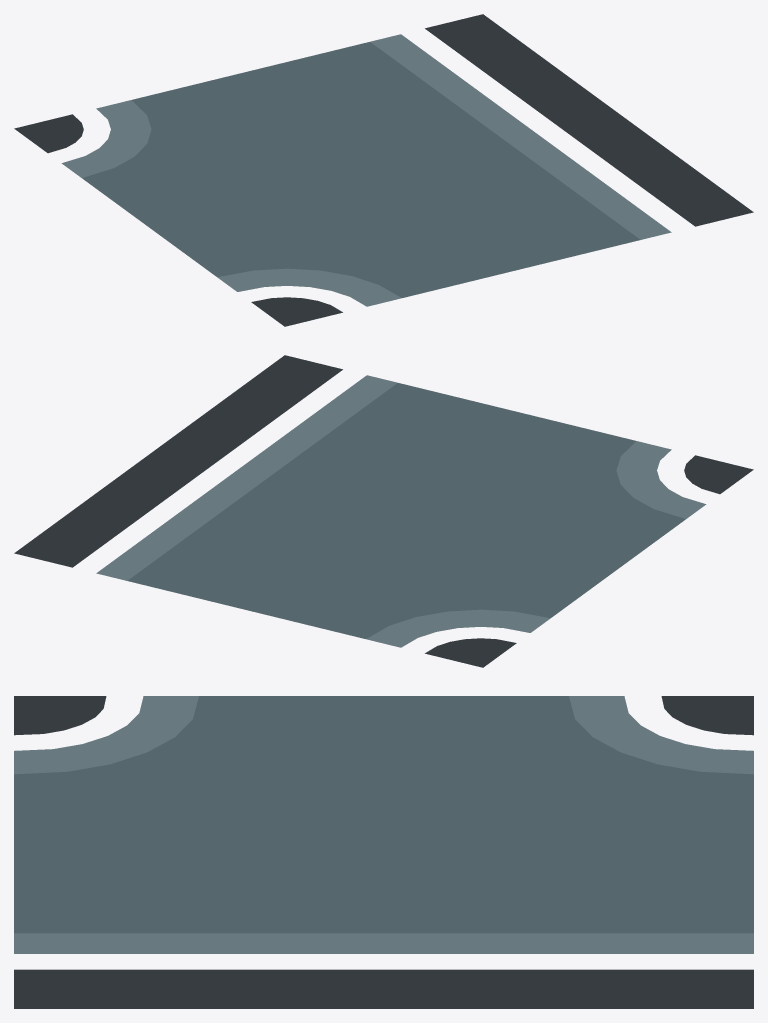
Rendered from Ceiling_type_C_011_012.glb.
The picture shows the model from 3 angles, top to bottom: view 1: azimuth 30°, elevation 25°; view 2: azimuth 150°, elevation 25°; view 3: azimuth 270°, elevation 25°; orthographic projection. The views are drawn at different scales.
Parts seen in each view (by area): view 1: Ceiling_type_C_011.012; view 2: Ceiling_type_C_011.012; view 3: Ceiling_type_C_011.012.
Part boxes in pixels (x1,y1,x2,y2): Ceiling_type_C_011.012: (14, 14, 753, 326); Ceiling_type_C_011.012: (14, 355, 753, 667); Ceiling_type_C_011.012: (14, 696, 753, 1008).
Size of the model in its own units: 4 by 0.0566 by 4.
2 materials, 2 textured.
